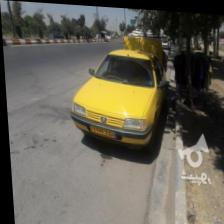plate: (89, 122, 117, 140)
